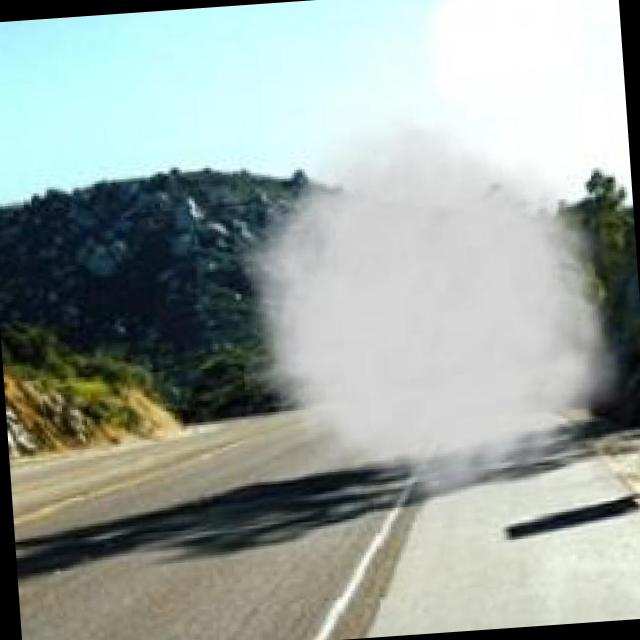Smoke: (225, 89, 640, 534)
